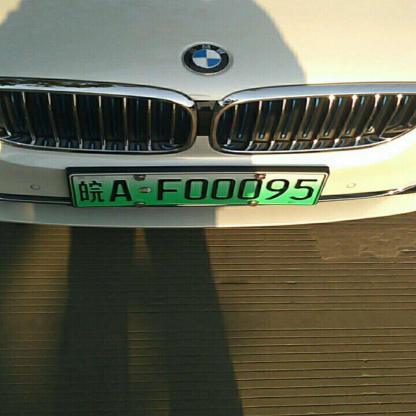lp: (73, 174, 325, 206)
